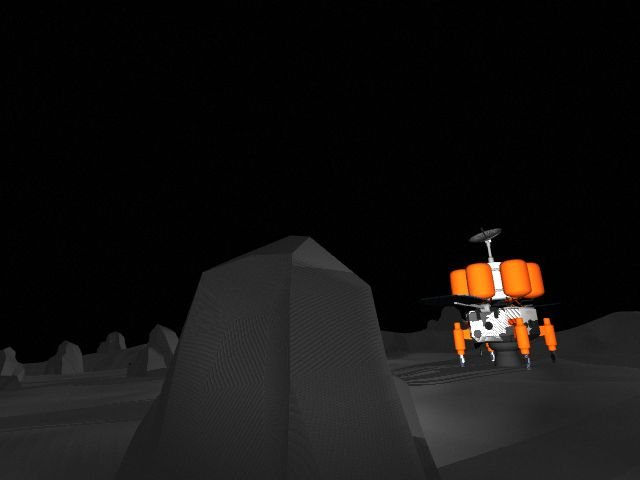homebase: (431, 220, 567, 375)
